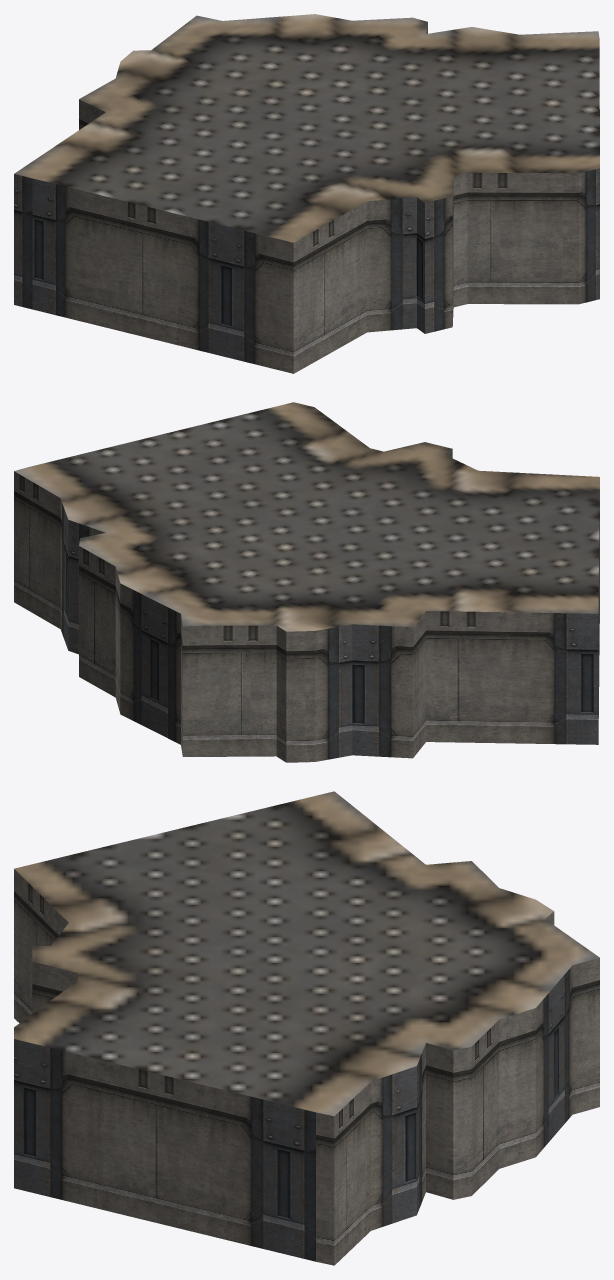
The model's file is building_heavy_a_20.glb.
3 views of the same model, one above another, from view 1: azimuth 30°, elevation 25°; view 2: azimuth 150°, elevation 25°; view 3: azimuth 270°, elevation 25° (orthographic). The views are drawn at different scales.
Visible parts, largest first — view 1: buildings/saxarba/building_heavy/building_heavy_a_20; view 2: buildings/saxarba/building_heavy/building_heavy_a_20; view 3: buildings/saxarba/building_heavy/building_heavy_a_20.
Part boxes in pixels (left/top/right/bottom): buildings/saxarba/building_heavy/building_heavy_a_20: left=14, top=14, right=599, bottom=373; buildings/saxarba/building_heavy/building_heavy_a_20: left=14, top=402, right=599, bottom=762; buildings/saxarba/building_heavy/building_heavy_a_20: left=14, top=791, right=599, bottom=1265.
Size of the model in its own units: 84 by 18 by 64.
